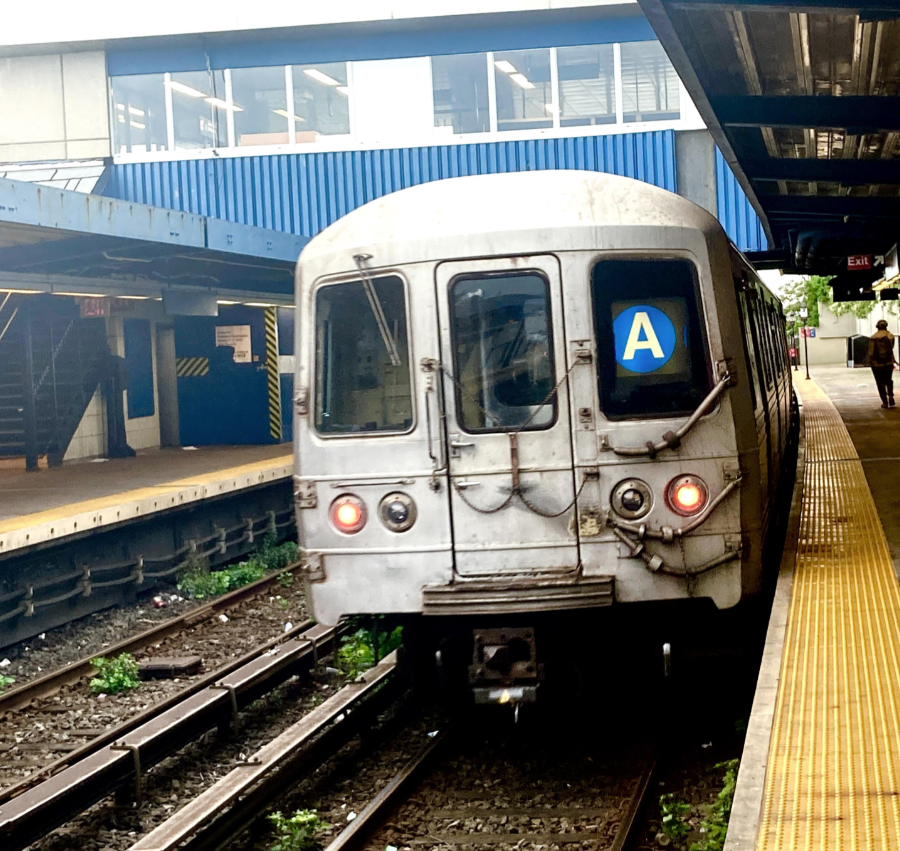train: (295, 168, 743, 624)
